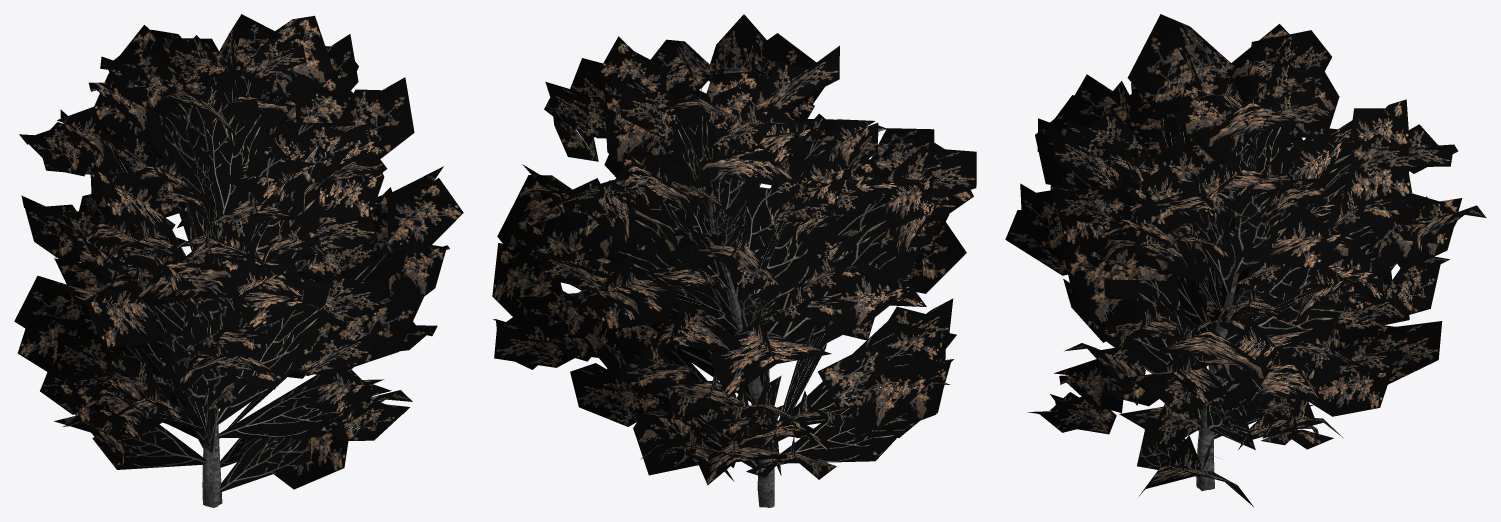
File: Maple_Bush_2.fbx
The picture shows the model from 3 angles, left to right: view 1: azimuth 30°, elevation 25°; view 2: azimuth 150°, elevation 25°; view 3: azimuth 270°, elevation 25°; orthographic projection. The views are drawn at different scales.
Parts seen in each view (by area): view 1: Leaves_2, Leaves_1, Branch, Tree; view 2: Leaves_2, Leaves_1, Branch, Tree; view 3: Leaves_2, Leaves_1, Branch, Tree.
Boxes of the visible parts, x1=… form: Leaves_2: x1=14, y1=14, x2=437, y2=468; Leaves_1: x1=17, y1=15, x2=463, y2=489; Branch: x1=82, y1=55, x2=407, y2=492; Tree: x1=202, y1=228, x2=222, y2=507; Leaves_2: x1=493, y1=14, x2=976, y2=479; Leaves_1: x1=492, y1=36, x2=973, y2=484; Branch: x1=598, y1=73, x2=956, y2=475; Tree: x1=708, y1=184, x2=774, y2=507; Leaves_2: x1=1005, y1=14, x2=1486, y2=449; Leaves_1: x1=1035, y1=24, x2=1462, y2=506; Branch: x1=1072, y1=74, x2=1432, y2=476; Tree: x1=1196, y1=271, x2=1239, y2=490.
Bounding box in the file's own units: 4.36 × 4.64 × 4.5.
